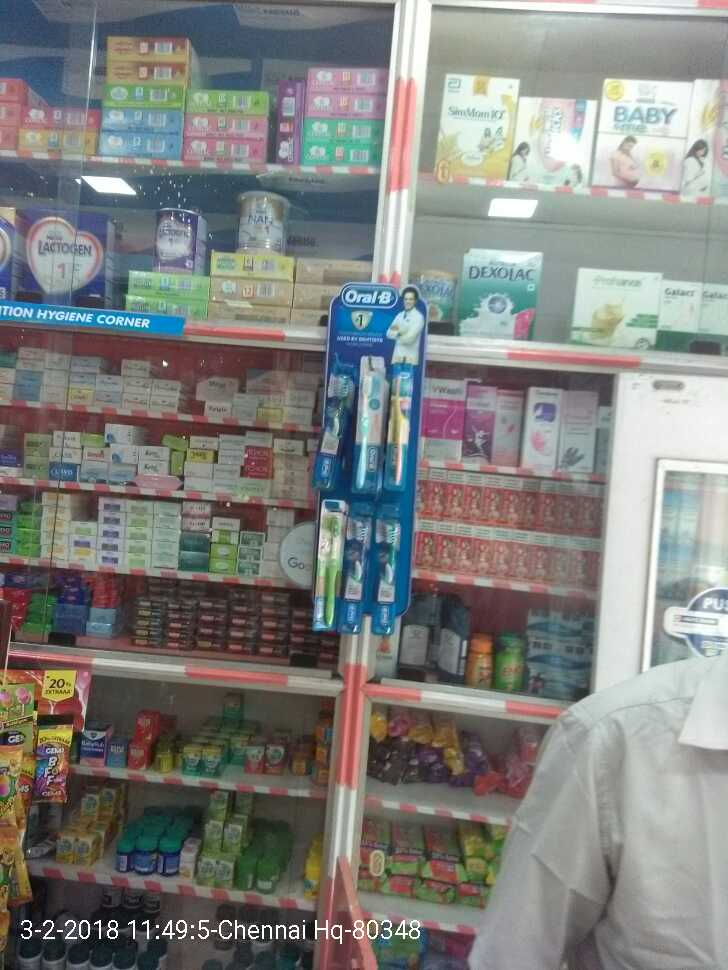oralb: (310, 360, 354, 491), (310, 497, 341, 633), (385, 361, 417, 489), (355, 354, 382, 496), (370, 502, 397, 636), (343, 501, 369, 634)
